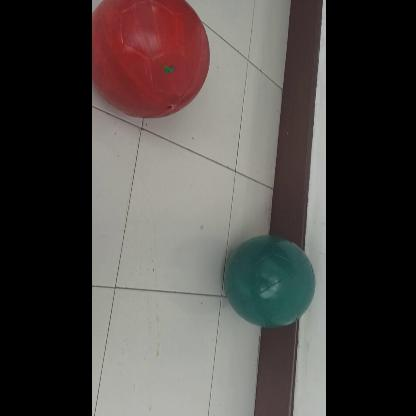green_ball: (223, 236, 315, 328)
